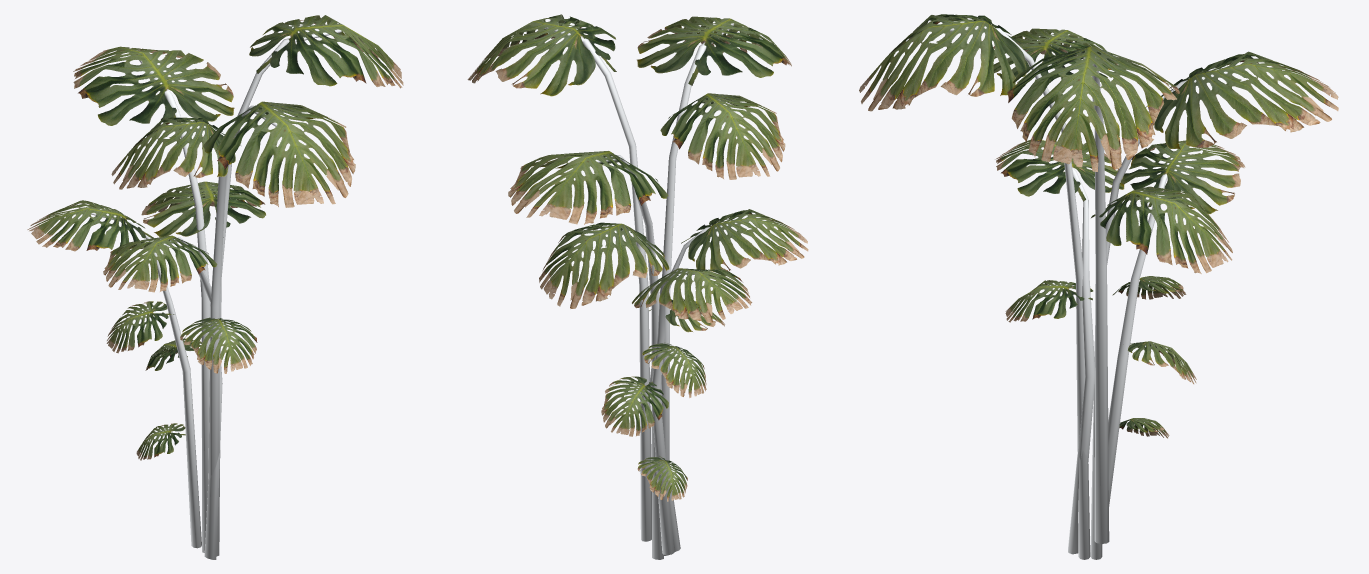
File: plant1.fbx
The picture shows the model from 3 angles, left to right: view 1: azimuth 30°, elevation 25°; view 2: azimuth 150°, elevation 25°; view 3: azimuth 270°, elevation 25°; orthographic projection. The views are drawn at different scales.
Parts seen in each view (by area): view 1: U3DMesh; view 2: U3DMesh; view 3: U3DMesh.
Part boxes in pixels (x1,y1,x2,y2): U3DMesh: (27,15,403,559); U3DMesh: (467,14,808,559); U3DMesh: (859,14,1338,559).
Bounding box in the file's own units: 57.88 × 81.85 × 67.49.
